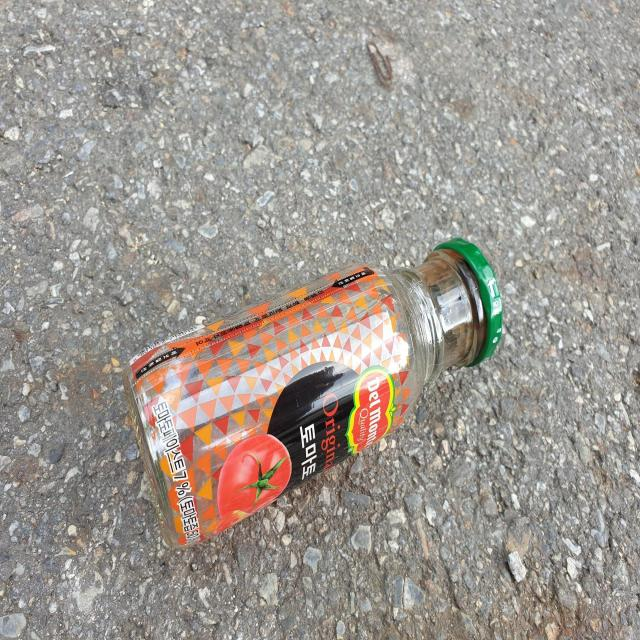glass: (124, 238, 503, 548)
